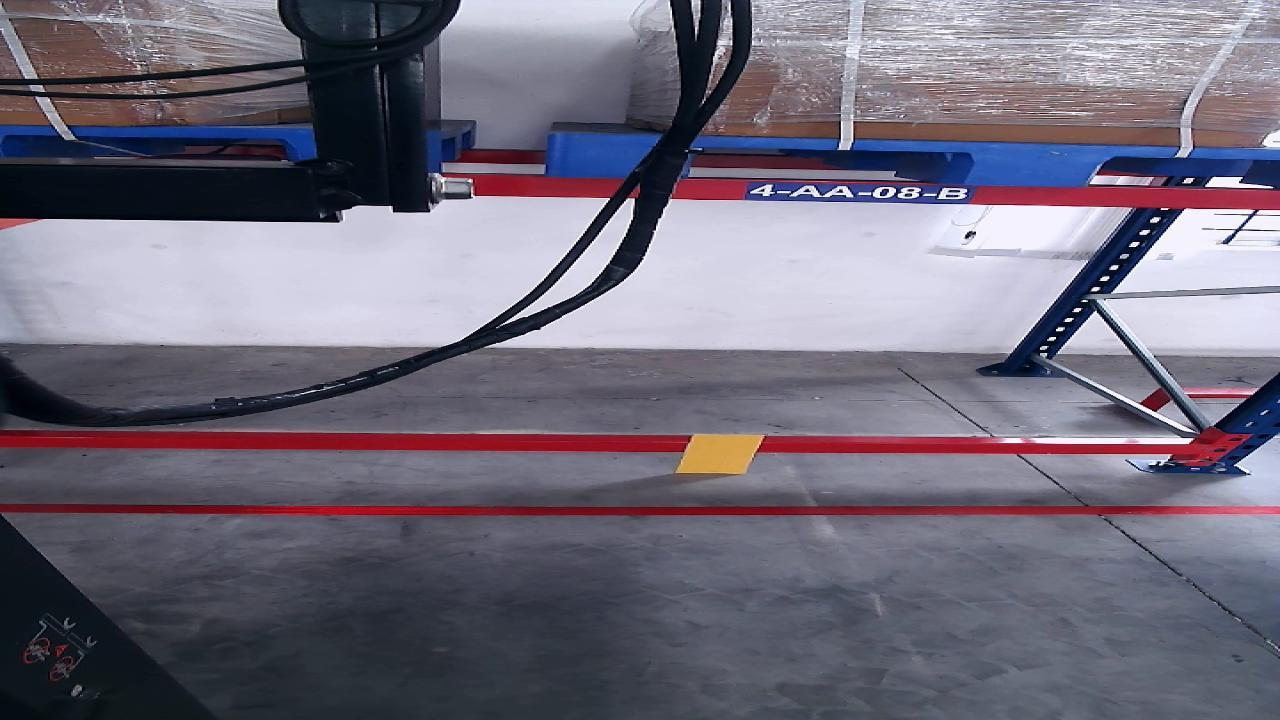h_rack: (482, 178, 1280, 207), (2, 436, 1203, 454)
orange_strip: (680, 433, 764, 474)
red_line: (3, 503, 1280, 513)
small_pallet: (549, 132, 1280, 188)
